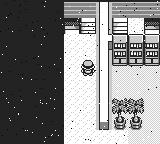main: (81, 60, 95, 76)
no-caminable: (1, 0, 160, 143), (99, 2, 112, 130), (112, 35, 159, 65), (111, 98, 144, 129), (112, 2, 160, 17), (64, 3, 96, 17)
puerta: (64, 18, 80, 34), (144, 18, 159, 34), (80, 18, 95, 34), (112, 18, 127, 34)
